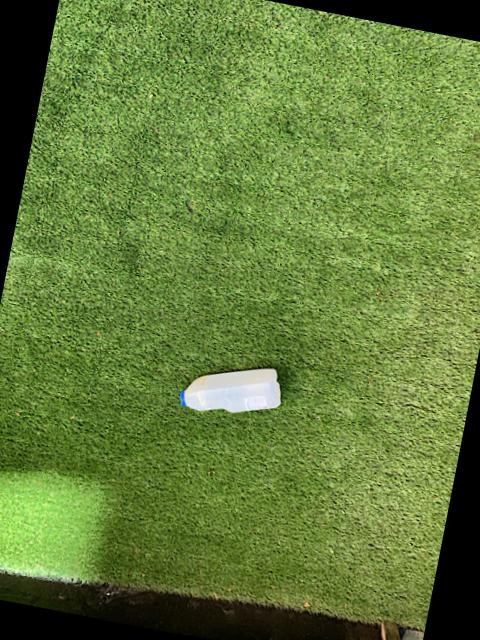plastic: (180, 366, 281, 410)
